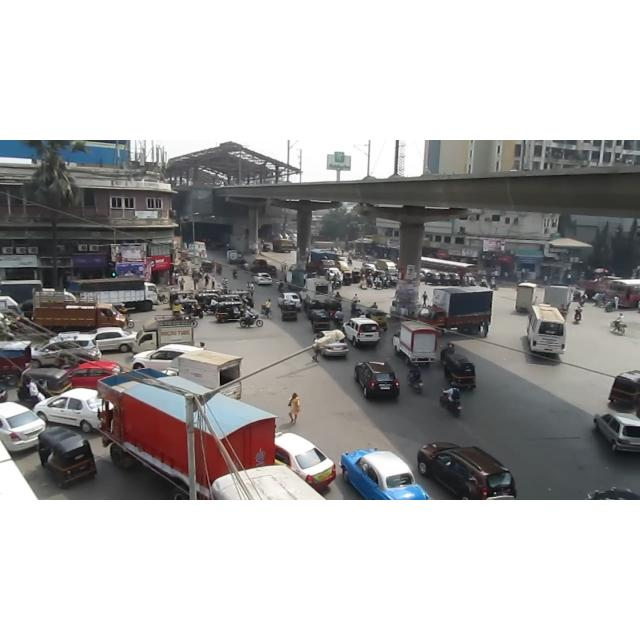auto: (37, 429, 99, 485), (14, 368, 67, 404), (446, 351, 478, 393), (606, 365, 640, 404), (170, 294, 206, 320), (219, 299, 252, 323)
car: (417, 442, 517, 500), (339, 448, 429, 500), (275, 433, 337, 491), (33, 388, 101, 432), (30, 332, 102, 368), (0, 402, 46, 453), (130, 344, 202, 372), (594, 412, 640, 452), (354, 361, 400, 399), (67, 360, 121, 390), (87, 327, 137, 353), (343, 317, 381, 347), (318, 331, 348, 357), (278, 292, 302, 310), (253, 272, 273, 286), (326, 266, 342, 282), (360, 263, 377, 273)
truck: (97, 368, 277, 500), (33, 291, 127, 333), (165, 350, 243, 400), (418, 286, 494, 334), (67, 277, 159, 311), (132, 315, 194, 353), (392, 322, 440, 366), (1, 280, 43, 304), (577, 276, 621, 298), (303, 278, 333, 310), (543, 284, 573, 310), (518, 280, 537, 320), (250, 258, 278, 278), (273, 238, 295, 254)
